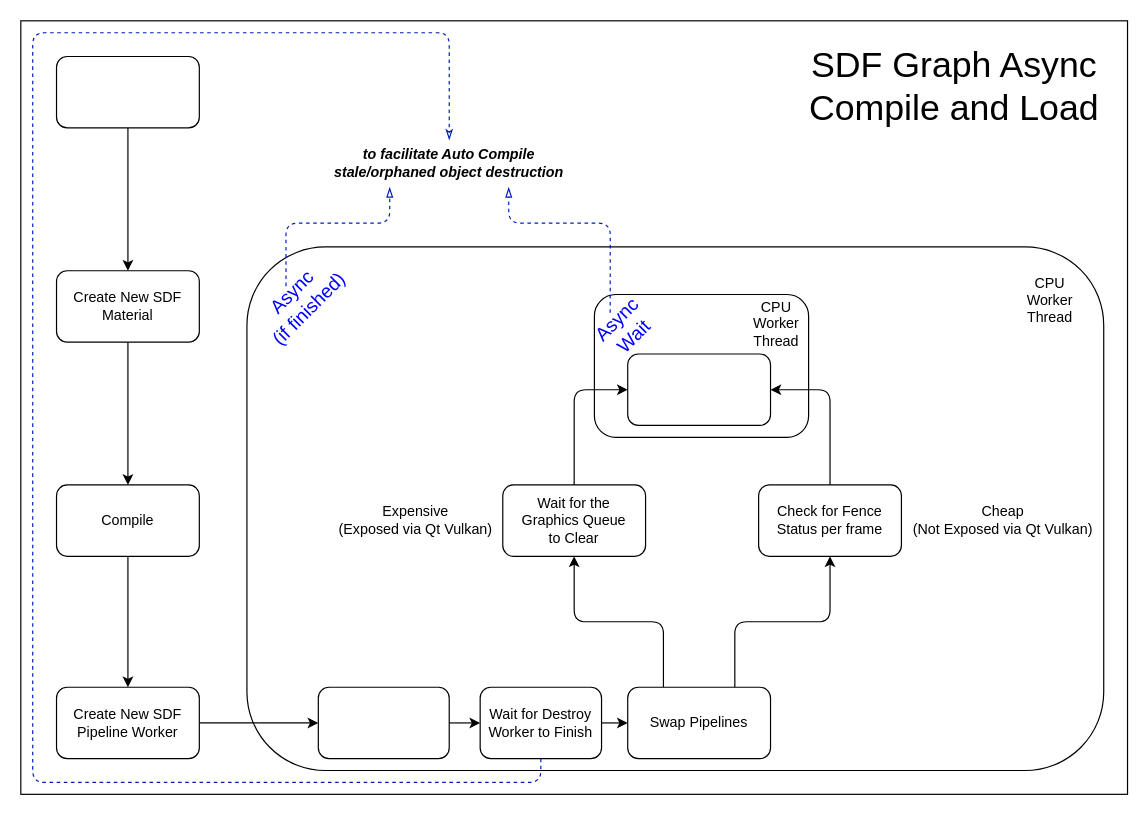
Some shapes in this 1148 by 815 pixel diagram are drawn without their labels. Here are the shapes that lost their labels. From the top down, the centre of each, then its label:
the point at 127,91: Load SDF Graph
the point at 699,389: Destroy Old SDF Pipeline
the point at 383,722: Wait for New SDF Pipeline Worker to Finish
